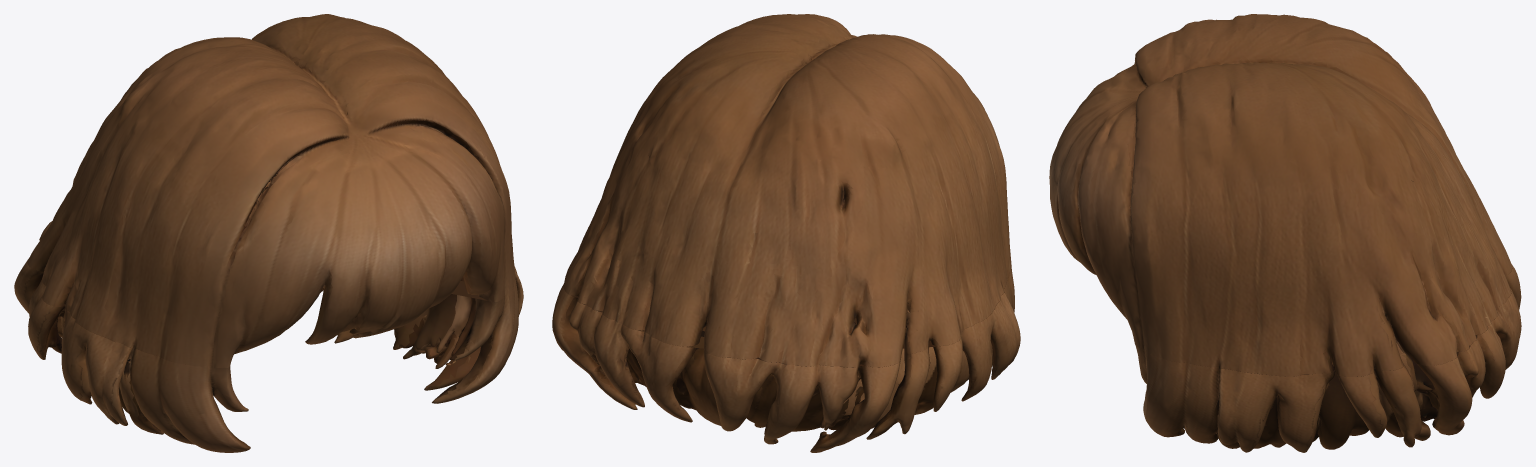
Rendered from hair_short2.fbx.
The picture shows the model from 3 angles, left to right: view 1: azimuth 30°, elevation 25°; view 2: azimuth 150°, elevation 25°; view 3: azimuth 270°, elevation 25°; orthographic projection. The views are drawn at different scales.
Parts seen in each view (by area): view 1: material_0.006; view 2: material_0.006; view 3: material_0.006.
Boxes of the visible parts, x1,y1,x2,y2 form: material_0.006: [14, 14, 523, 452]; material_0.006: [552, 14, 1020, 452]; material_0.006: [1049, 14, 1521, 452].
Bounding box in the file's own units: 60 × 47.53 × 59.33.
2 materials, 2 textured.
